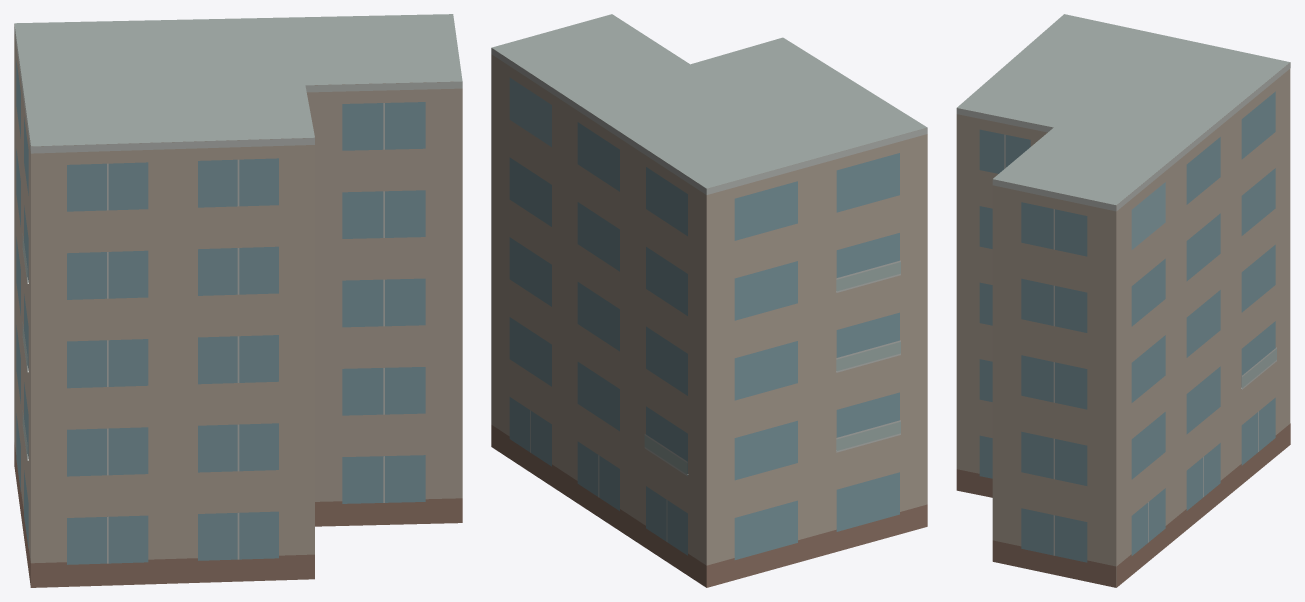
Rendered from survey-upis-32973273.glb.
The picture shows the model from 3 angles, left to right: view 1: azimuth 30°, elevation 25°; view 2: azimuth 150°, elevation 25°; view 3: azimuth 270°, elevation 25°; orthographic projection. The views are drawn at different scales.
Visible parts, largest first — view 1: survey-upis-32973273.tmp; view 2: survey-upis-32973273.tmp; view 3: survey-upis-32973273.tmp.
Boxes of the visible parts, box(x1,y1,x2,y2) form: survey-upis-32973273.tmp: box(14, 14, 462, 587); survey-upis-32973273.tmp: box(491, 14, 927, 587); survey-upis-32973273.tmp: box(956, 14, 1290, 587).
Bounding box in the file's own units: 16.2 × 15.1 × 11.95.
